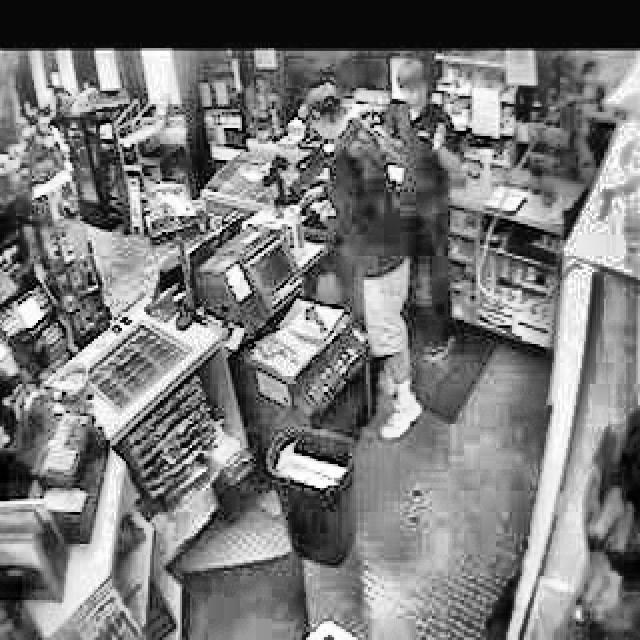robbery: (290, 81, 425, 255), (372, 56, 468, 180)
